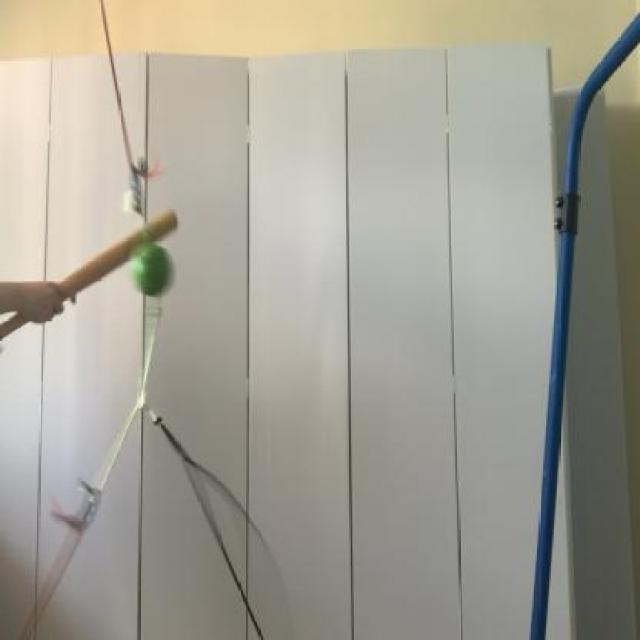baseball: (121, 229, 174, 303)
